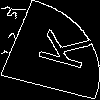K: (25, 24, 93, 71)
